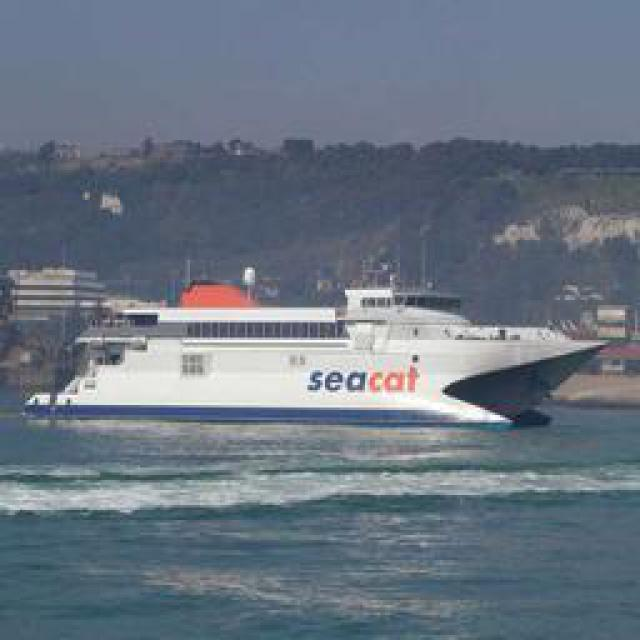Ship: (17, 276, 615, 434)
